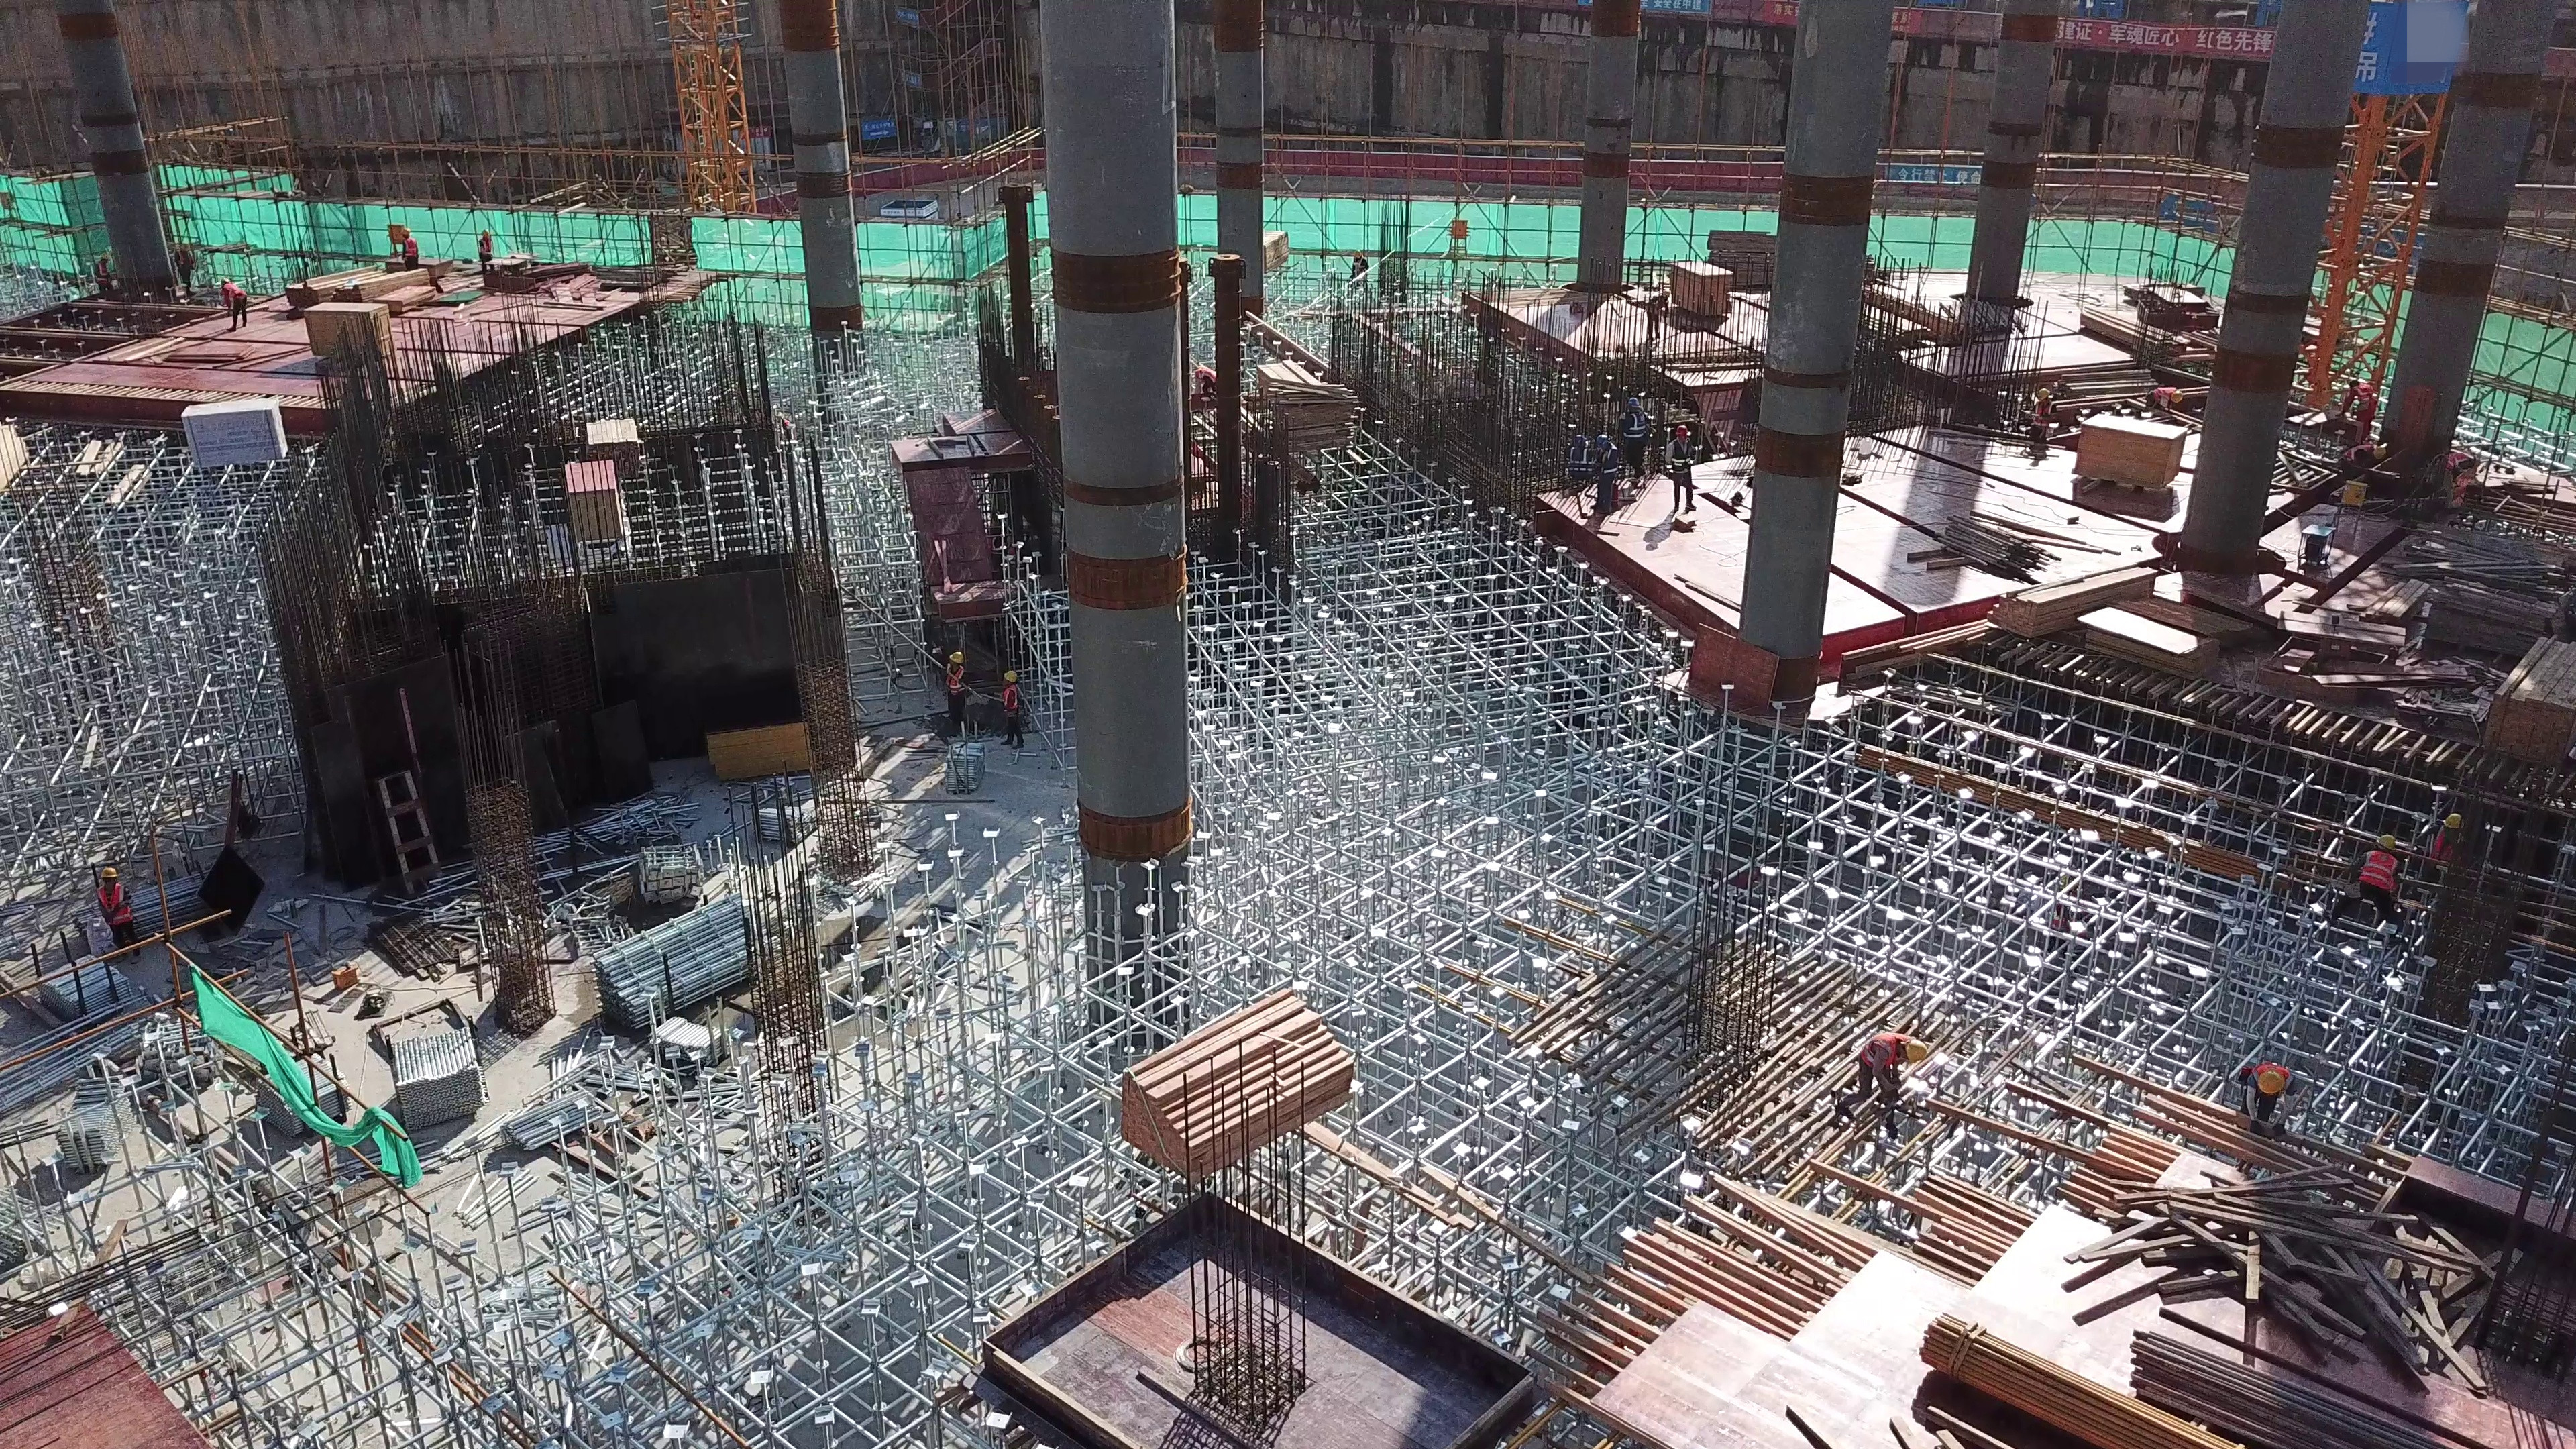board: (568, 462, 614, 540)
helmet: (2255, 1069, 2286, 1094), (1906, 1038, 1927, 1063), (2377, 833, 2400, 851), (2443, 810, 2463, 828), (2036, 384, 2051, 401), (2173, 388, 2184, 407), (1674, 423, 1687, 435), (1627, 397, 1641, 408), (2373, 445, 2387, 457), (1599, 433, 1610, 443)
person: (1830, 1028, 1928, 1140), (93, 867, 142, 965), (2354, 837, 2404, 930), (2239, 1058, 2292, 1132), (991, 667, 1026, 753), (1666, 426, 1697, 519), (1619, 396, 1648, 488), (937, 652, 971, 733), (2027, 385, 2057, 449), (213, 280, 250, 331), (2345, 373, 2377, 435), (1599, 433, 1623, 508), (2340, 438, 2391, 474), (2428, 814, 2460, 869), (1560, 438, 1591, 494), (475, 228, 499, 276), (393, 222, 417, 272), (2144, 382, 2183, 408)
scaffold: (585, 903, 762, 1012), (380, 1024, 488, 1130), (56, 1073, 136, 1166), (505, 1082, 603, 1155), (40, 961, 131, 1028), (641, 1008, 735, 1066), (752, 782, 829, 846), (938, 735, 987, 802)
slogan: (2054, 12, 2288, 70)
vest: (2357, 847, 2395, 889), (1858, 1030, 1898, 1065), (96, 886, 131, 928), (1670, 439, 1696, 478), (1564, 447, 1591, 483), (941, 665, 965, 700), (1623, 413, 1650, 445), (2031, 401, 2054, 435), (1597, 449, 1618, 482), (2351, 385, 2373, 417), (999, 685, 1020, 716), (2434, 833, 2453, 865), (2343, 443, 2373, 464), (215, 284, 239, 305), (2151, 385, 2173, 405), (1000, 667, 1020, 683), (478, 237, 492, 257), (404, 239, 417, 260), (947, 651, 964, 665), (101, 866, 119, 877)
wood: (1925, 1307, 2488, 1449), (1114, 1006, 1372, 1161), (2166, 1181, 2455, 1310), (2436, 536, 2542, 650), (2481, 652, 2576, 750)
